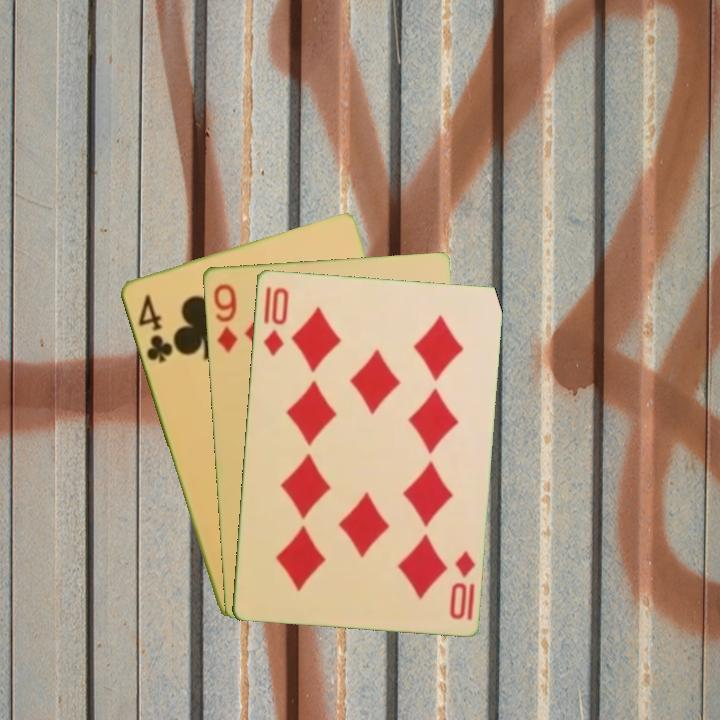10d: (445, 547, 478, 622), (260, 283, 291, 358)
4c: (133, 290, 176, 366)
9d: (209, 280, 241, 356)
